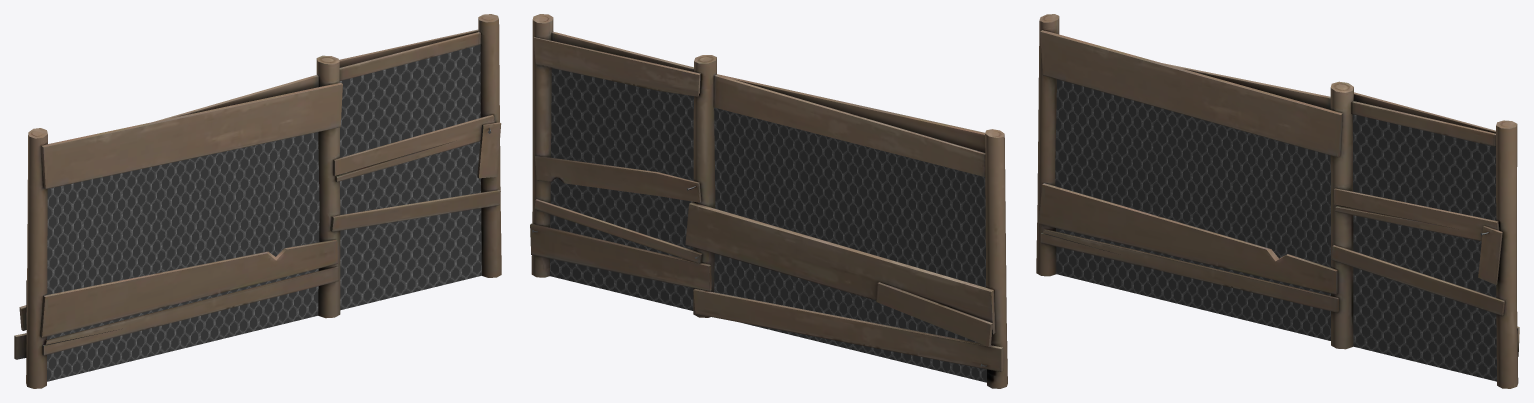
3 renders of one model, left to right at view 1: azimuth 30°, elevation 25°; view 2: azimuth 150°, elevation 25°; view 3: azimuth 330°, elevation 25°, orthographic.
Visible parts, largest first — view 1: body0_model0_lod0_mesh0, body0_model0_lod0_mesh1; view 2: body0_model0_lod0_mesh1, body0_model0_lod0_mesh0; view 3: body0_model0_lod0_mesh0, body0_model0_lod0_mesh1.
Boxes of the visible parts, box(x1,y1,x2,y2) form: body0_model0_lod0_mesh0: box(47, 44, 481, 381); body0_model0_lod0_mesh1: box(14, 14, 501, 388); body0_model0_lod0_mesh1: box(530, 14, 1007, 388); body0_model0_lod0_mesh0: box(550, 68, 986, 382); body0_model0_lod0_mesh0: box(1055, 79, 1496, 381); body0_model0_lod0_mesh1: box(1036, 14, 1519, 388).
Bounding box in the file's own units: 261 × 134 × 24.46.
Materials: 2 (2 with a texture image).
